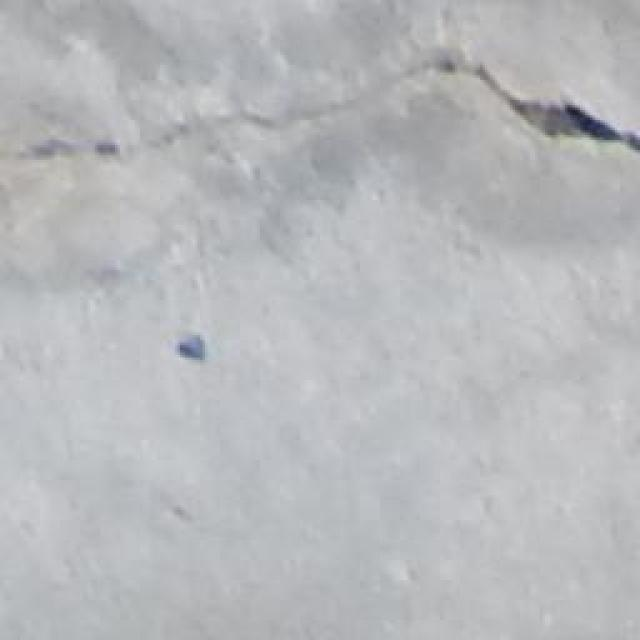concrete-crack: (0, 53, 640, 174)
